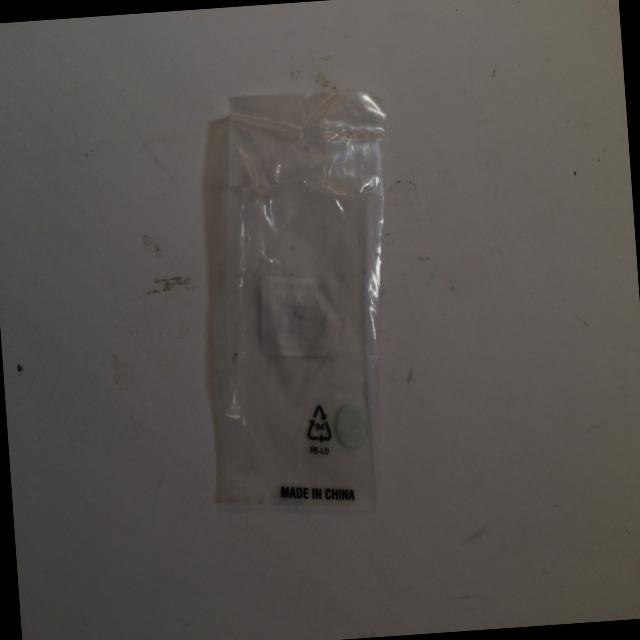Plastic: (184, 58, 446, 550)
